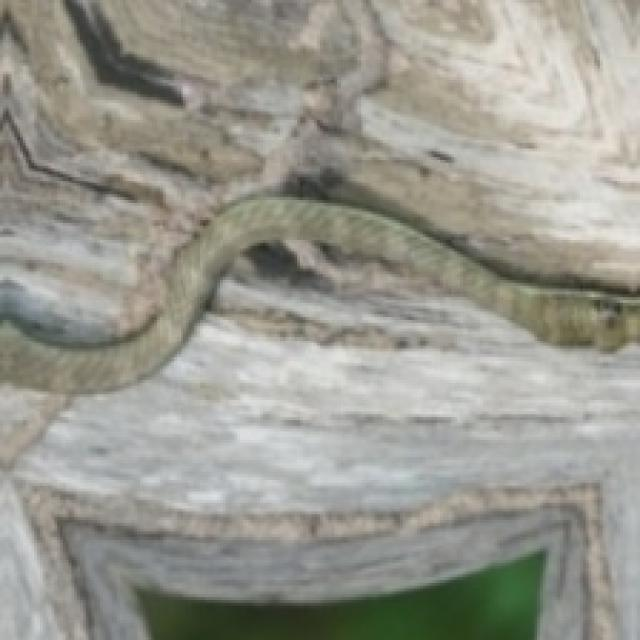paradise tree snake: (0, 197, 637, 391)
